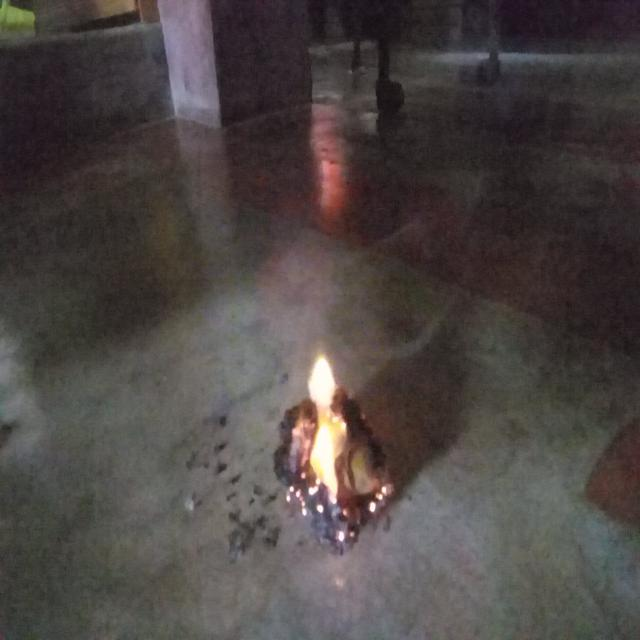Fire: (261, 399, 401, 445)
